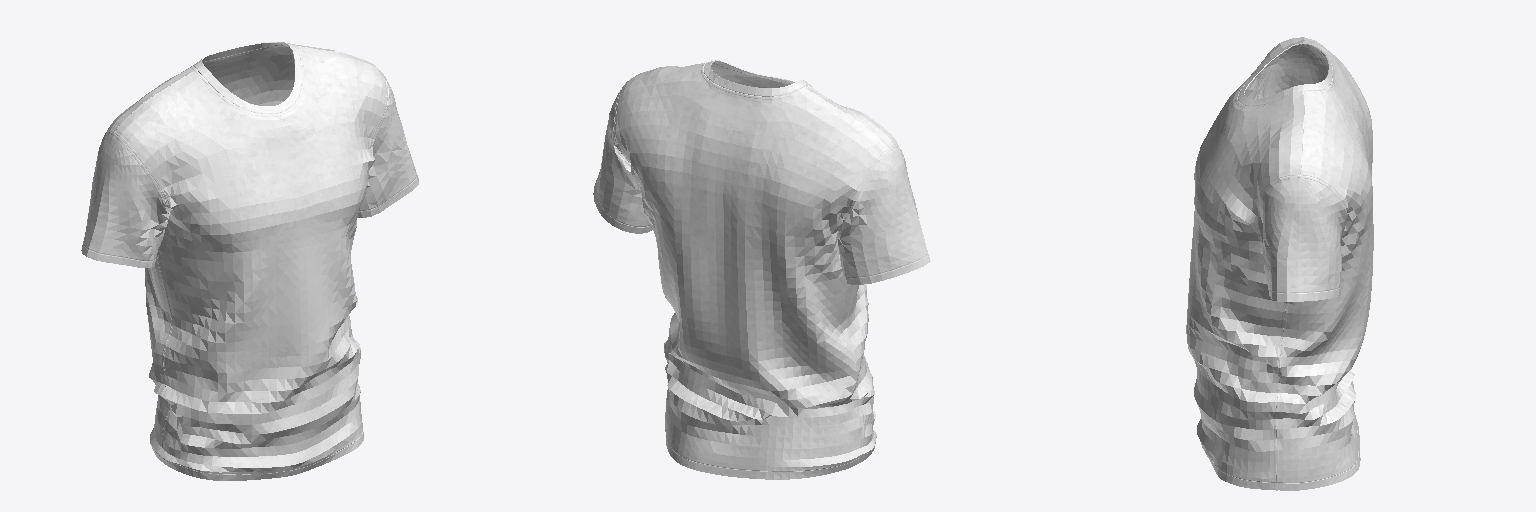
3 renders of one model, left to right at view 1: azimuth 30°, elevation 25°; view 2: azimuth 150°, elevation 25°; view 3: azimuth 270°, elevation 25°, orthographic.
Visible parts, largest first — view 1: T_Shirt_male_T_Shirt_male.001; view 2: T_Shirt_male_T_Shirt_male.001; view 3: T_Shirt_male_T_Shirt_male.001.
Part boxes in pixels (x1,y1,x2,y2): T_Shirt_male_T_Shirt_male.001: (81,42,418,480); T_Shirt_male_T_Shirt_male.001: (593,60,930,479); T_Shirt_male_T_Shirt_male.001: (1186,37,1373,490).
Size of the model in its own units: 50.24 by 55.76 by 24.53.
Materials: 1 (1 with a texture image).